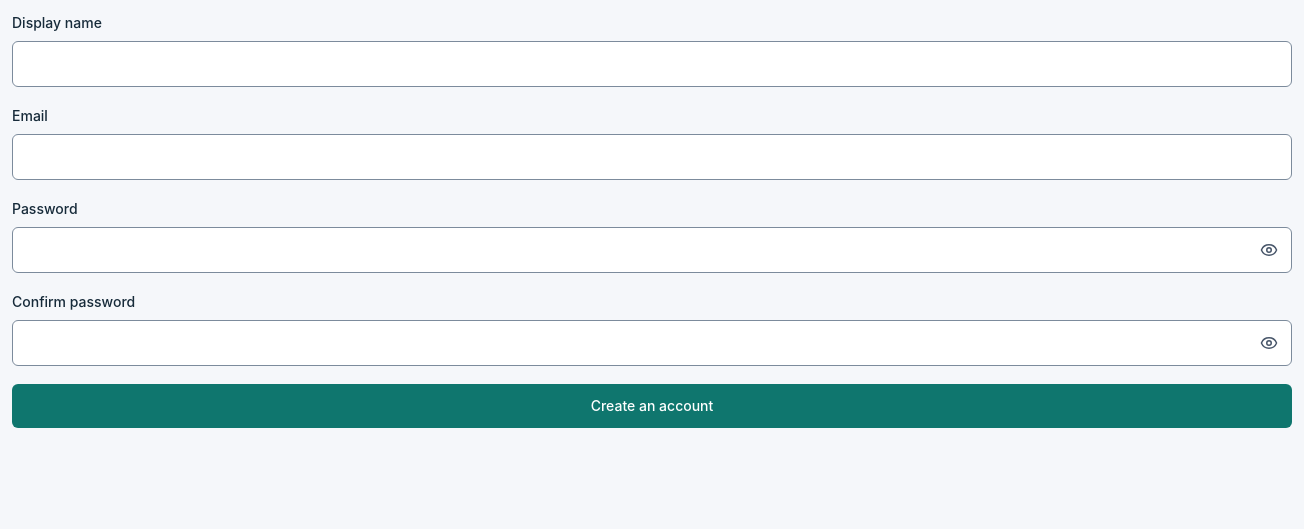
Test: validates registration display name, password length and confirmation
Step 1. Type "nova.reed@example.test" into the field labelled "Email" → (652, 157), box [12, 134, 1292, 180]
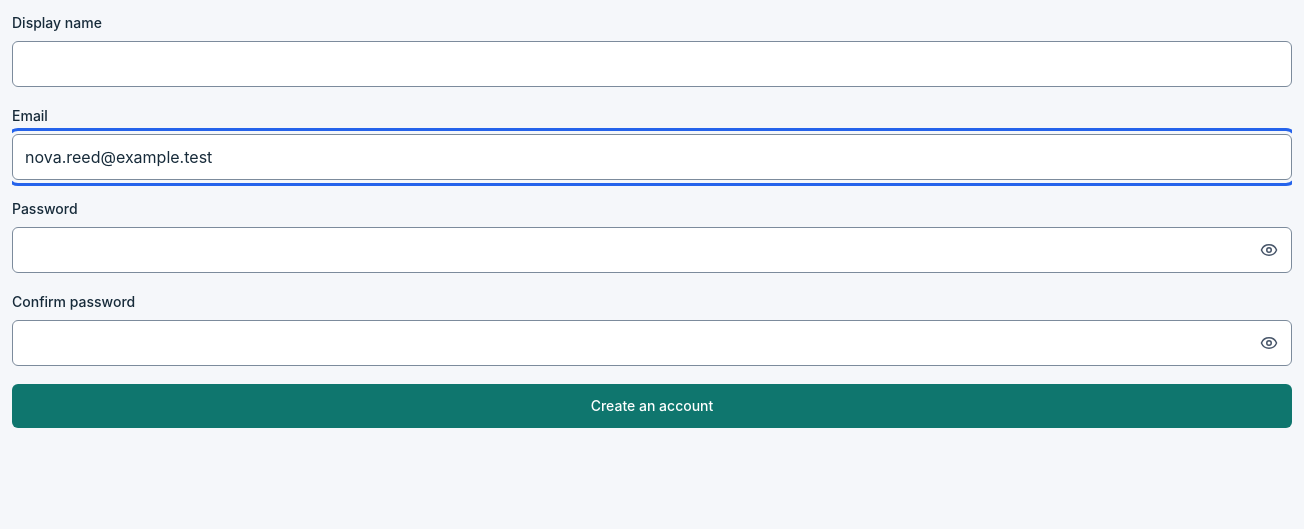
Step 2. Type "short" into the password field labelled "Password" → (652, 250), box [12, 227, 1292, 273]
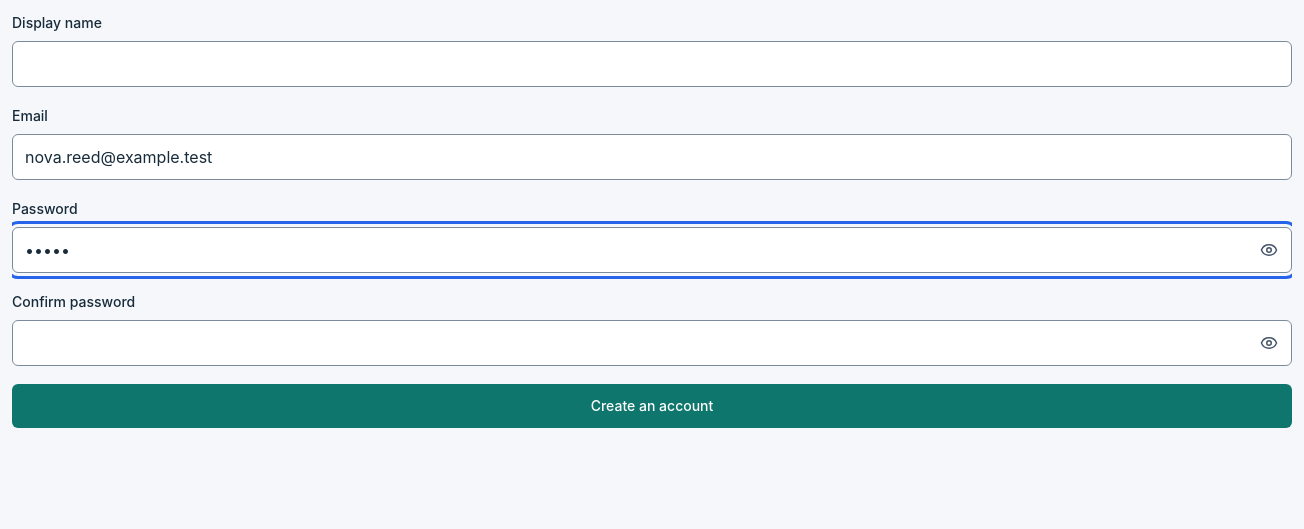
Step 3. Type "different" into the password field labelled "Confirm password" → (652, 343), box [12, 320, 1292, 366]
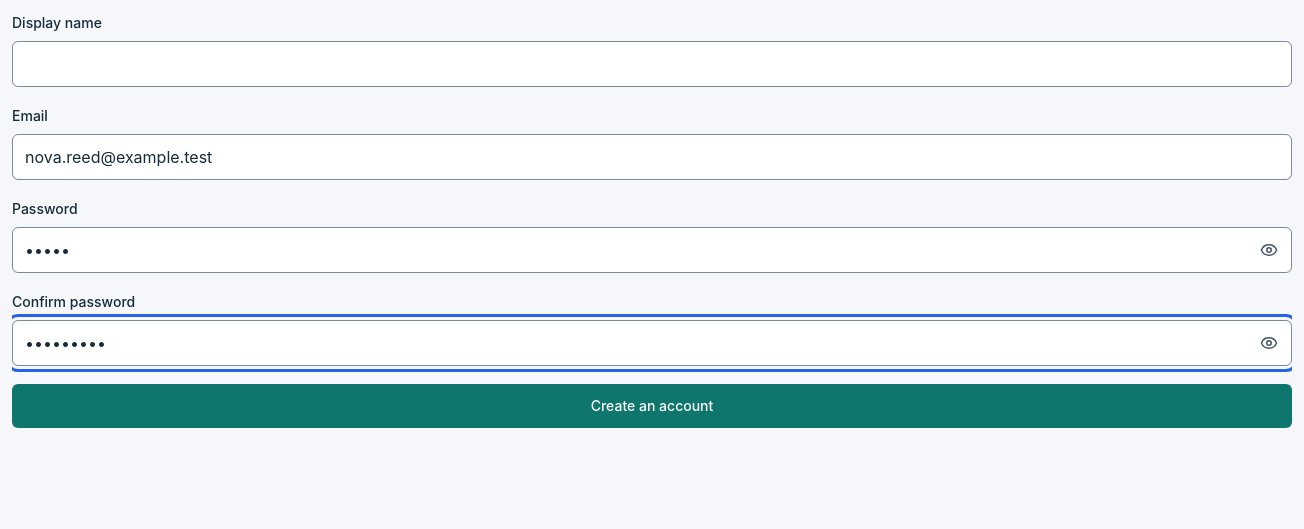
Step 4. Click the button "Create an account" → (652, 406), box [12, 384, 1292, 428]
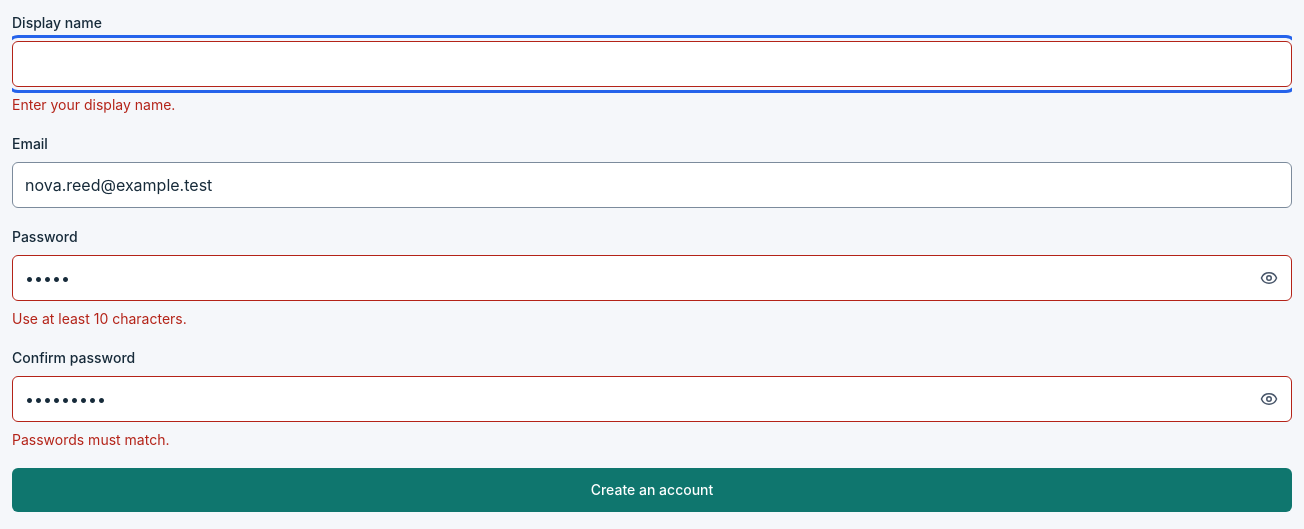
Now the text "Enter your display name." is shown, box [12, 96, 175, 113]
Now the text "Use at least 10 characters." is shown, box [12, 310, 187, 327]
Now the text "Passwords must match." is shown, box [12, 431, 170, 448]
